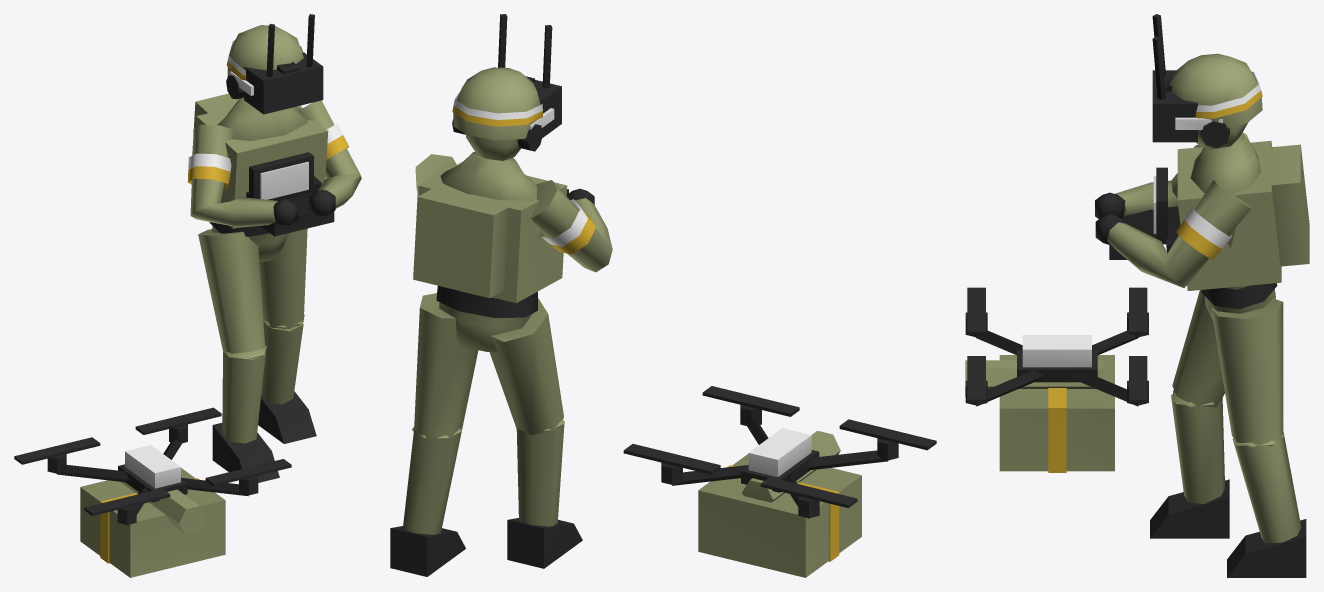
Rendered from ua-fpv-team.glb.
The picture shows the model from 3 angles, left to right: view 1: azimuth 30°, elevation 25°; view 2: azimuth 150°, elevation 25°; view 3: azimuth 270°, elevation 25°; orthographic projection. The views are drawn at different scales.
Visible parts, largest first — view 1: limb_o_hips, limb_o_arms, limb_x_quad, limb_x_crate, limb_o_thigh_l, limb_o_shin_l, limb_o_shin_r, limb_o_thigh_r; view 2: limb_o_hips, limb_x_crate, limb_x_quad, limb_o_shin_r, limb_o_shin_l, limb_o_thigh_r, limb_o_thigh_l, limb_o_arms; view 3: limb_o_hips, limb_x_quad, limb_o_arms, limb_x_crate, limb_o_thigh_r, limb_o_shin_r, limb_o_shin_l, limb_o_thigh_l.
Part boxes in pixels (x1,y1,x2,y2): limb_o_hips: (192,14,328,262); limb_o_arms: (188,100,361,236); limb_x_quad: (14,407,291,534); limb_x_crate: (80,468,225,577); limb_o_thigh_l: (198,229,266,360); limb_o_shin_l: (212,352,279,482); limb_o_shin_r: (258,321,316,443); limb_o_thigh_r: (259,228,307,329); limb_o_hips: (413,14,567,352); limb_x_crate: (698,453,861,577); limb_x_quad: (623,386,936,518); limb_o_shin_r: (390,430,465,576); limb_o_shin_l: (507,421,582,568); limb_o_thigh_r: (412,293,478,439); limb_o_thigh_l: (489,298,564,434); limb_o_arms: (415,154,612,272); limb_o_hips: (1152,14,1309,320); limb_x_quad: (965,287,1148,406); limb_o_arms: (1095,132,1251,287); limb_x_crate: (999,355,1114,472); limb_o_thigh_r: (1211,298,1283,448); limb_o_shin_r: (1227,431,1306,577); limb_o_shin_l: (1150,394,1229,538); limb_o_thigh_l: (1172,290,1224,408).
Size of the model in its own units: 0.4148 by 0.499 by 0.299.
